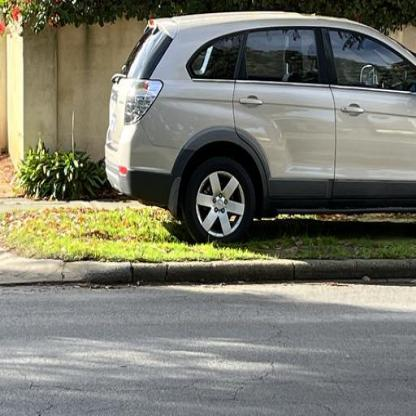Tire: (182, 156, 256, 245)
